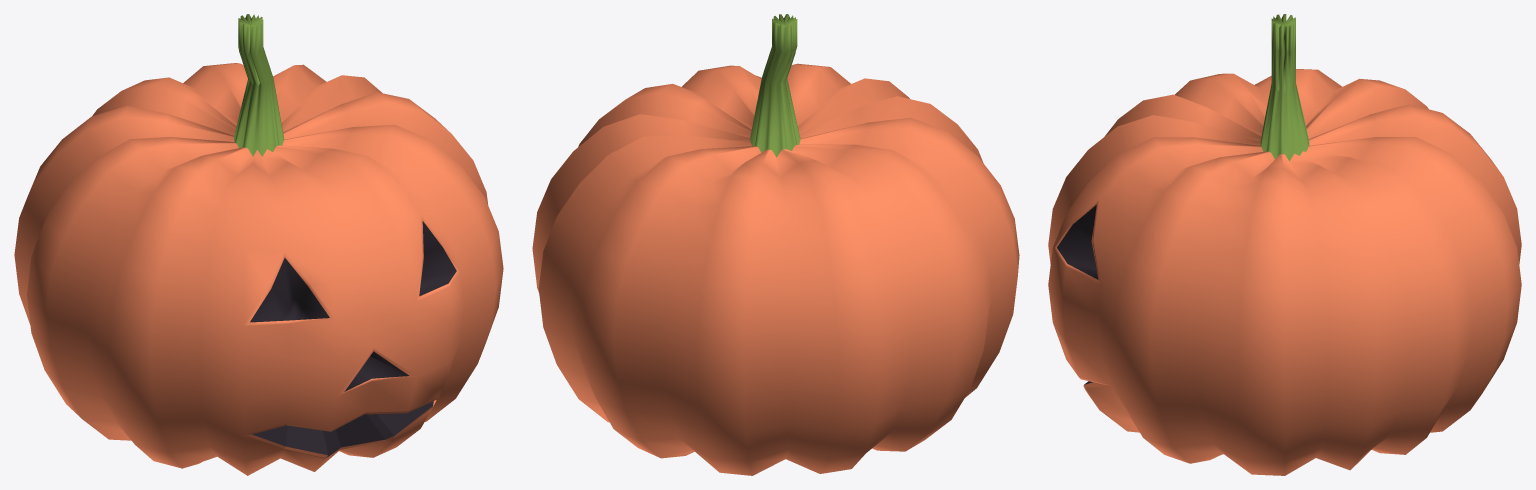
File: pumpkin.fbx
The picture shows the model from 3 angles, left to right: view 1: azimuth 30°, elevation 25°; view 2: azimuth 150°, elevation 25°; view 3: azimuth 270°, elevation 25°; orthographic projection.
Visible parts, largest first — view 1: Sphere; view 2: Sphere; view 3: Sphere.
Boxes of the visible parts, box(x1,y1,x2,y2) form: Sphere: box(14, 14, 503, 475); Sphere: box(532, 14, 1019, 475); Sphere: box(1048, 14, 1521, 475).
Size of the model in its own units: 487 by 434 by 477.
